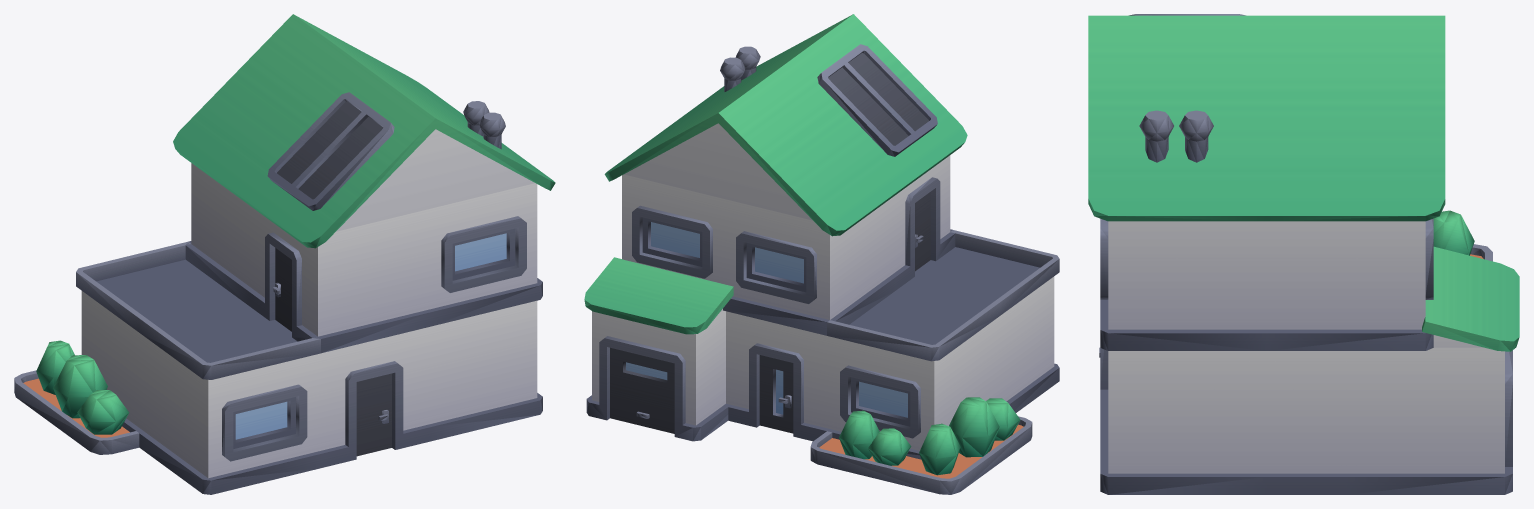
File: ks_house_u.fbx
3 renders of one model, left to right at view 1: azimuth 30°, elevation 25°; view 2: azimuth 150°, elevation 25°; view 3: azimuth 270°, elevation 25°, orthographic. The views are drawn at different scales.
Visible parts, largest first — view 1: ks_house_u_LOD0; view 2: ks_house_u_LOD0; view 3: ks_house_u_LOD0.
Boxes of the visible parts, <box> form: ks_house_u_LOD0: <box>14,14,555,494</box>; ks_house_u_LOD0: <box>584,14,1059,494</box>; ks_house_u_LOD0: <box>1088,14,1519,494</box>.
Size of what is drawn, in the model's own units: 12.14 by 9.67 by 9.24.
